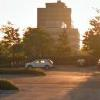Car: (22, 55, 59, 72)
